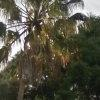Tree: (47, 18, 100, 100)
